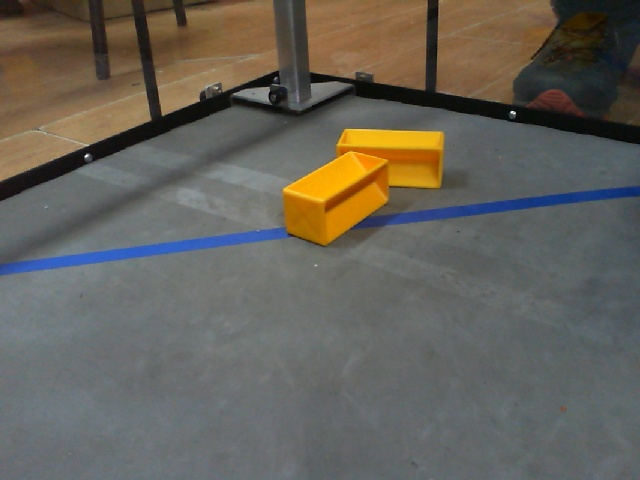YellowSample: (274, 149, 396, 248), (328, 119, 453, 194)
